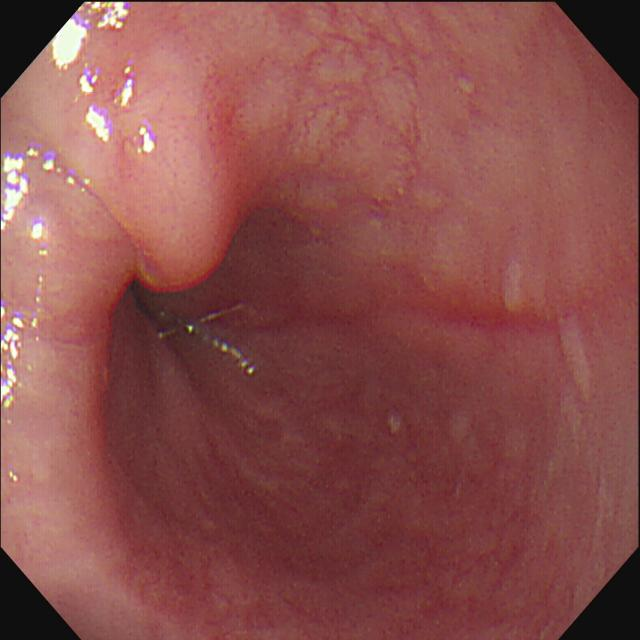A: (426, 506, 541, 631), (119, 545, 216, 628), (201, 65, 250, 214)
J: (556, 315, 593, 400), (203, 335, 257, 377), (502, 262, 525, 315)
U: (51, 2, 133, 71), (2, 145, 54, 231), (2, 307, 26, 410), (85, 107, 111, 144), (137, 124, 158, 157), (121, 66, 136, 110), (79, 70, 101, 98), (32, 220, 46, 242)
